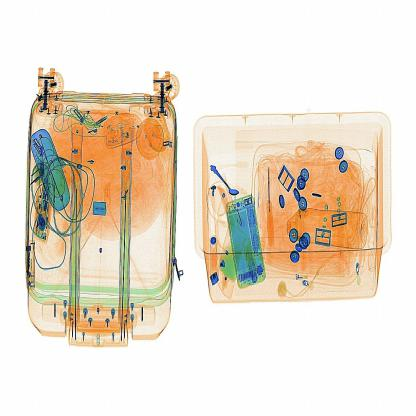wrench: (260, 160, 283, 261)
